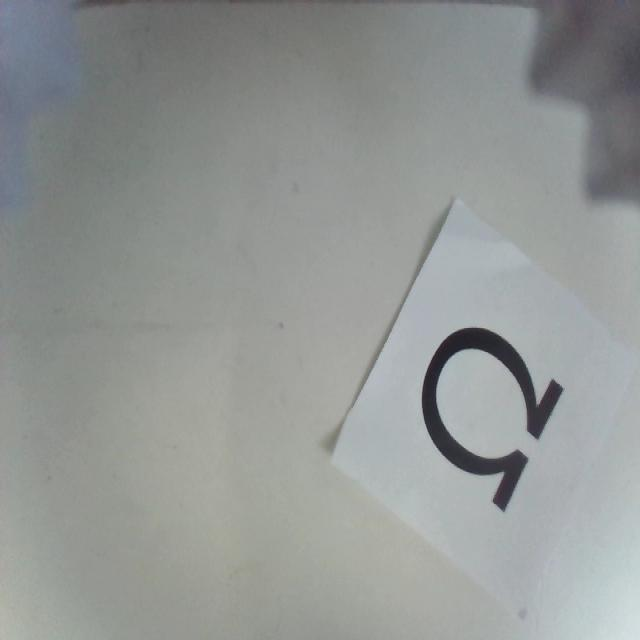OM: (422, 325, 564, 509)
